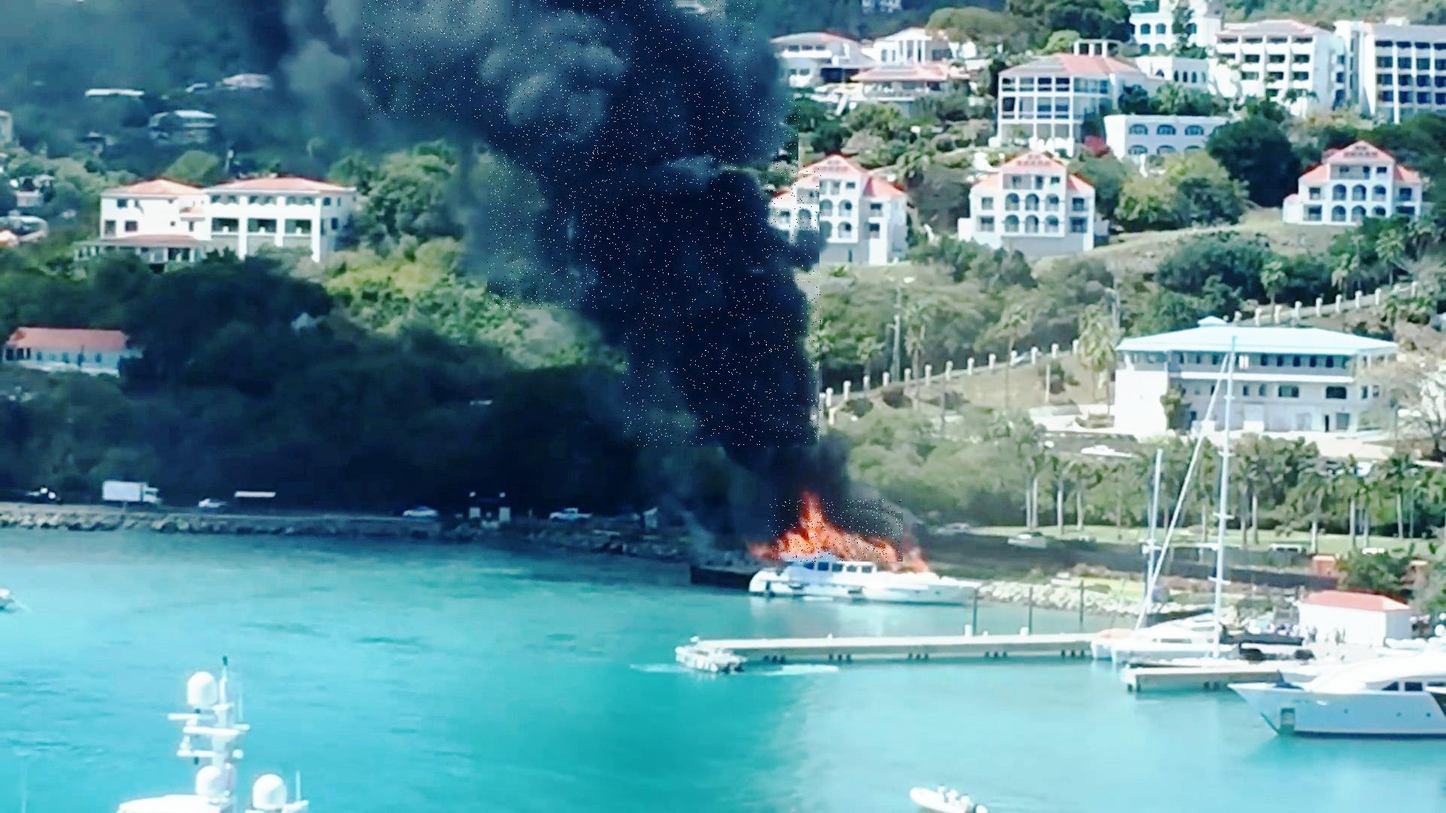fire: (768, 499, 903, 562)
smoke: (488, 98, 801, 309), (624, 164, 822, 447), (362, 0, 756, 120)
